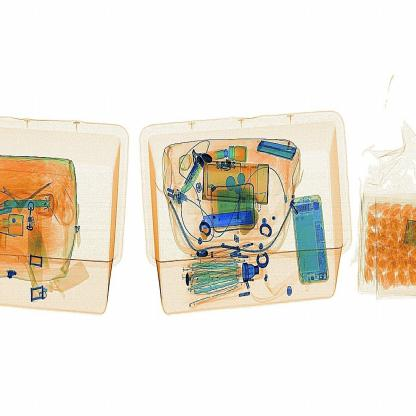pliers: (198, 204, 273, 238)
